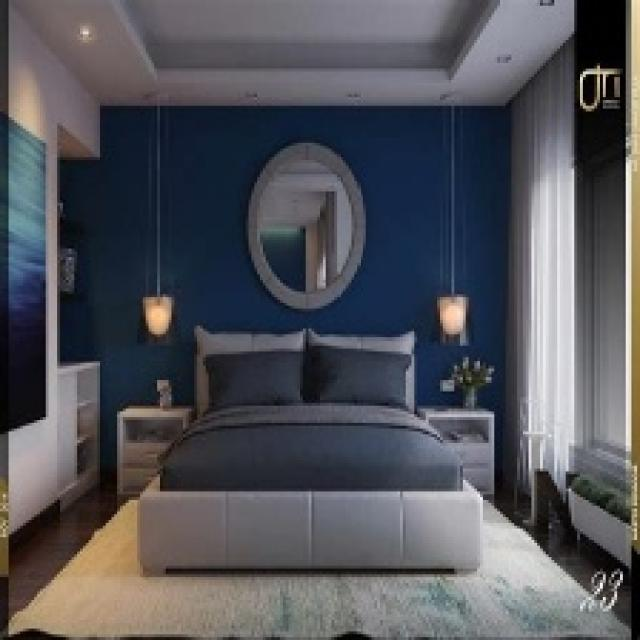Bed: (134, 326, 483, 574)
